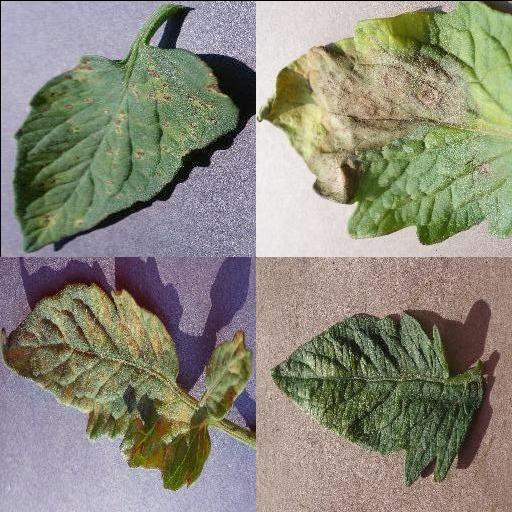Late Blight: (258, 0, 512, 245)
Leaf Mold: (0, 281, 256, 487)
Septoria: (12, 44, 235, 252)
Spider Mites: (270, 313, 484, 487)
